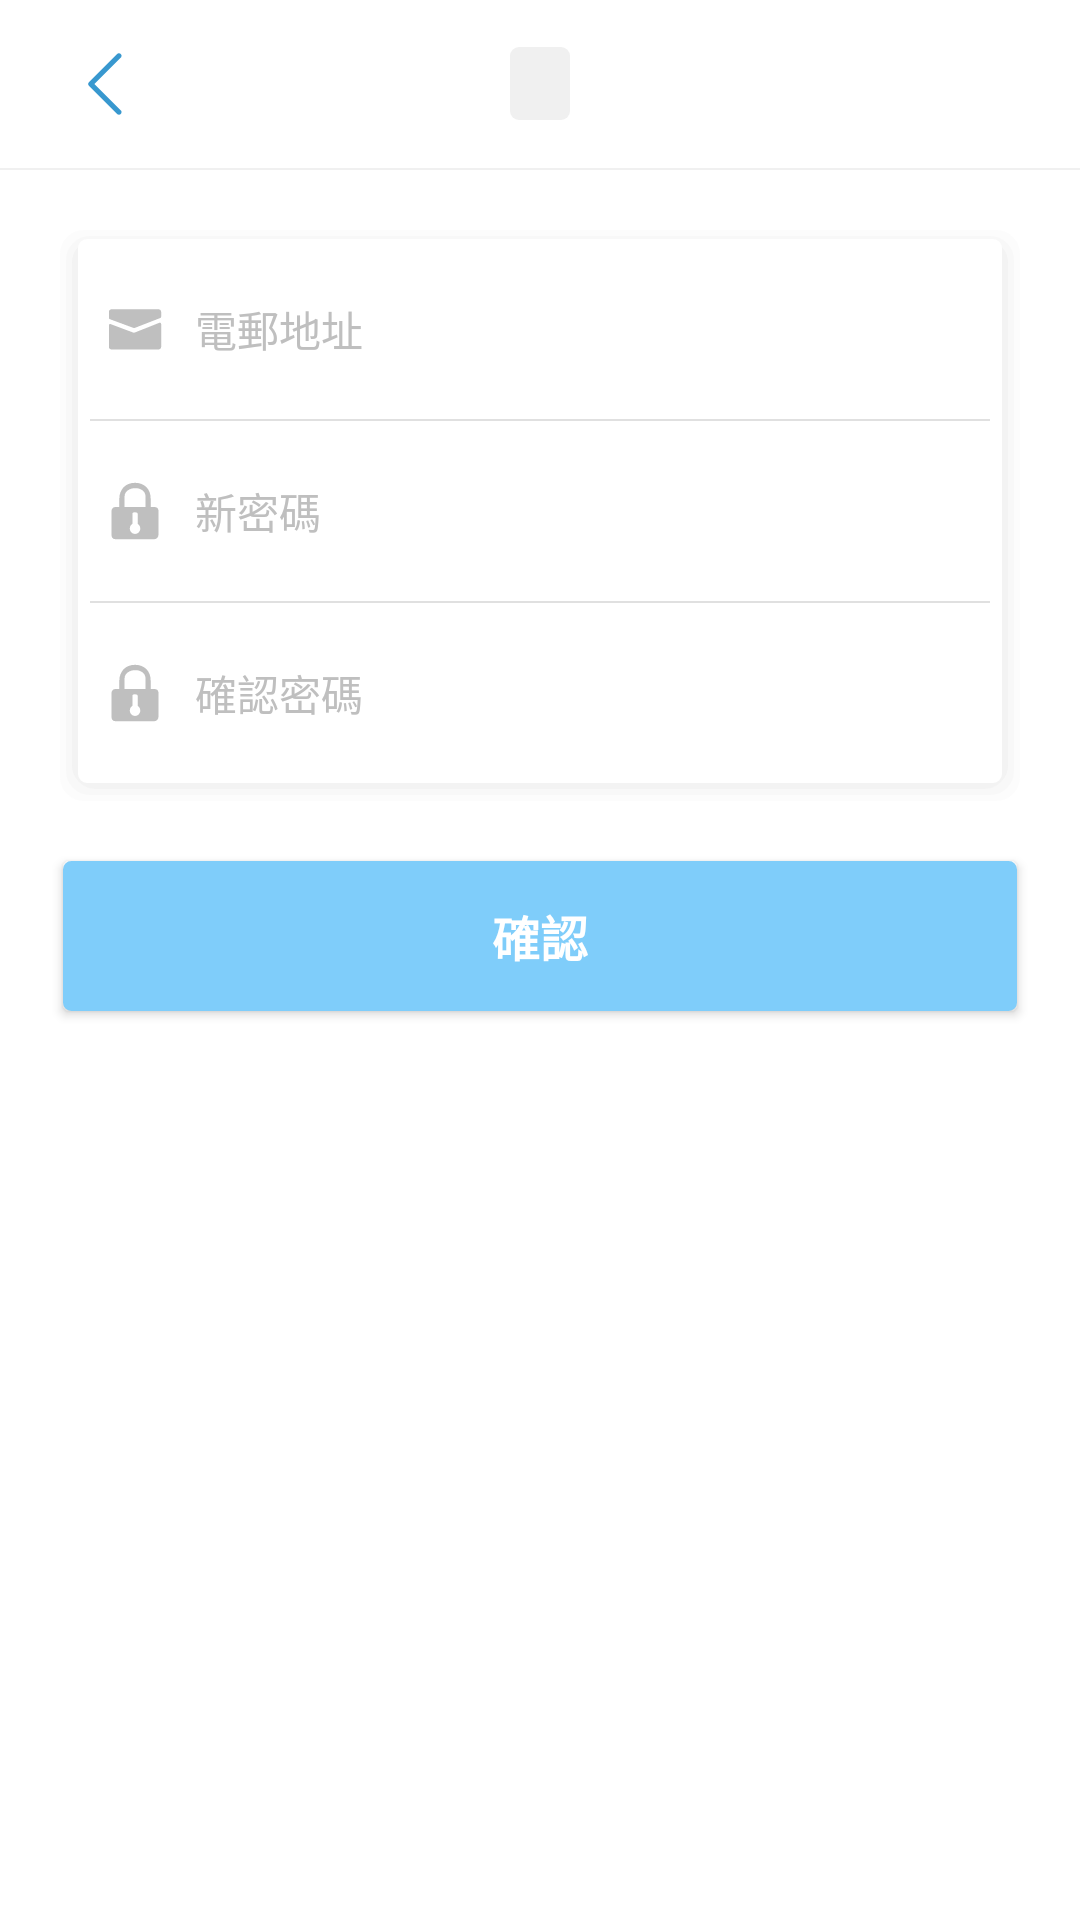

Screen size 1080 × 1920. Icon name, then its center in pixels as point (x, y):
back: point (105, 84)
email bfgray: point (135, 329)
password bfgray: point (135, 511), point (135, 693)
